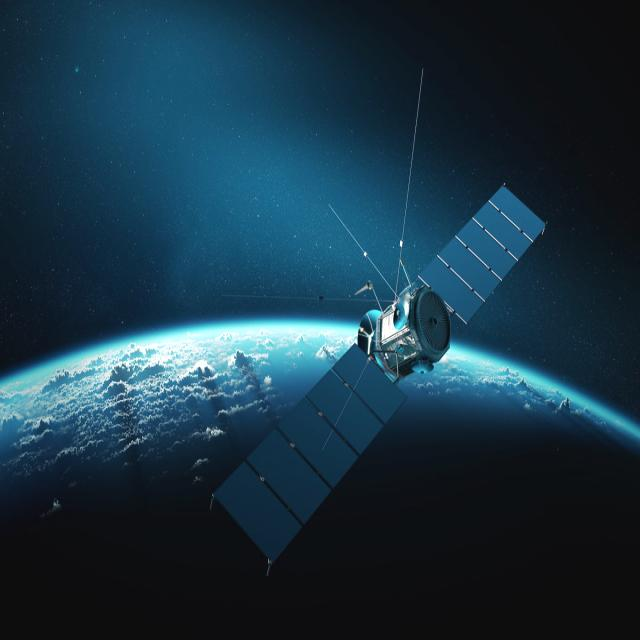medium_debris: (206, 153, 549, 570)
